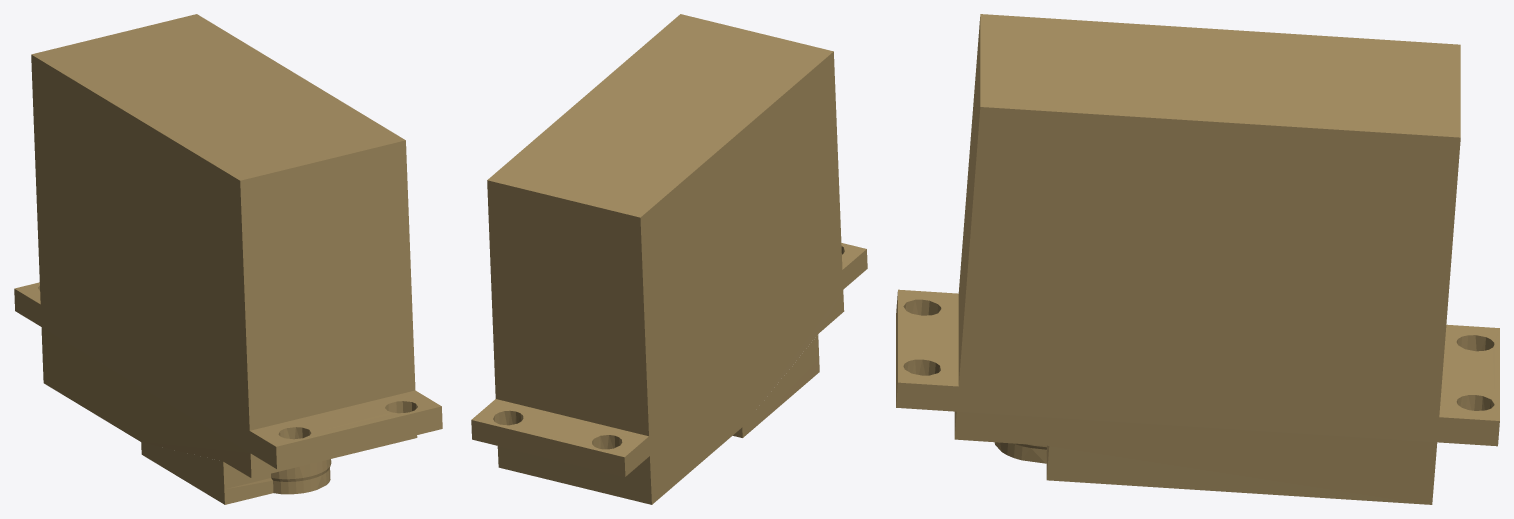
Rendered from Texture.249.dae.light.glb.
3 views of the same model, side by side, from view 1: azimuth 30°, elevation 25°; view 2: azimuth 150°, elevation 25°; view 3: azimuth 270°, elevation 25° (orthographic). The views are drawn at different scales.
Bounding box in the file's own units: 0.2829 × 0.5644 × 0.7761.
